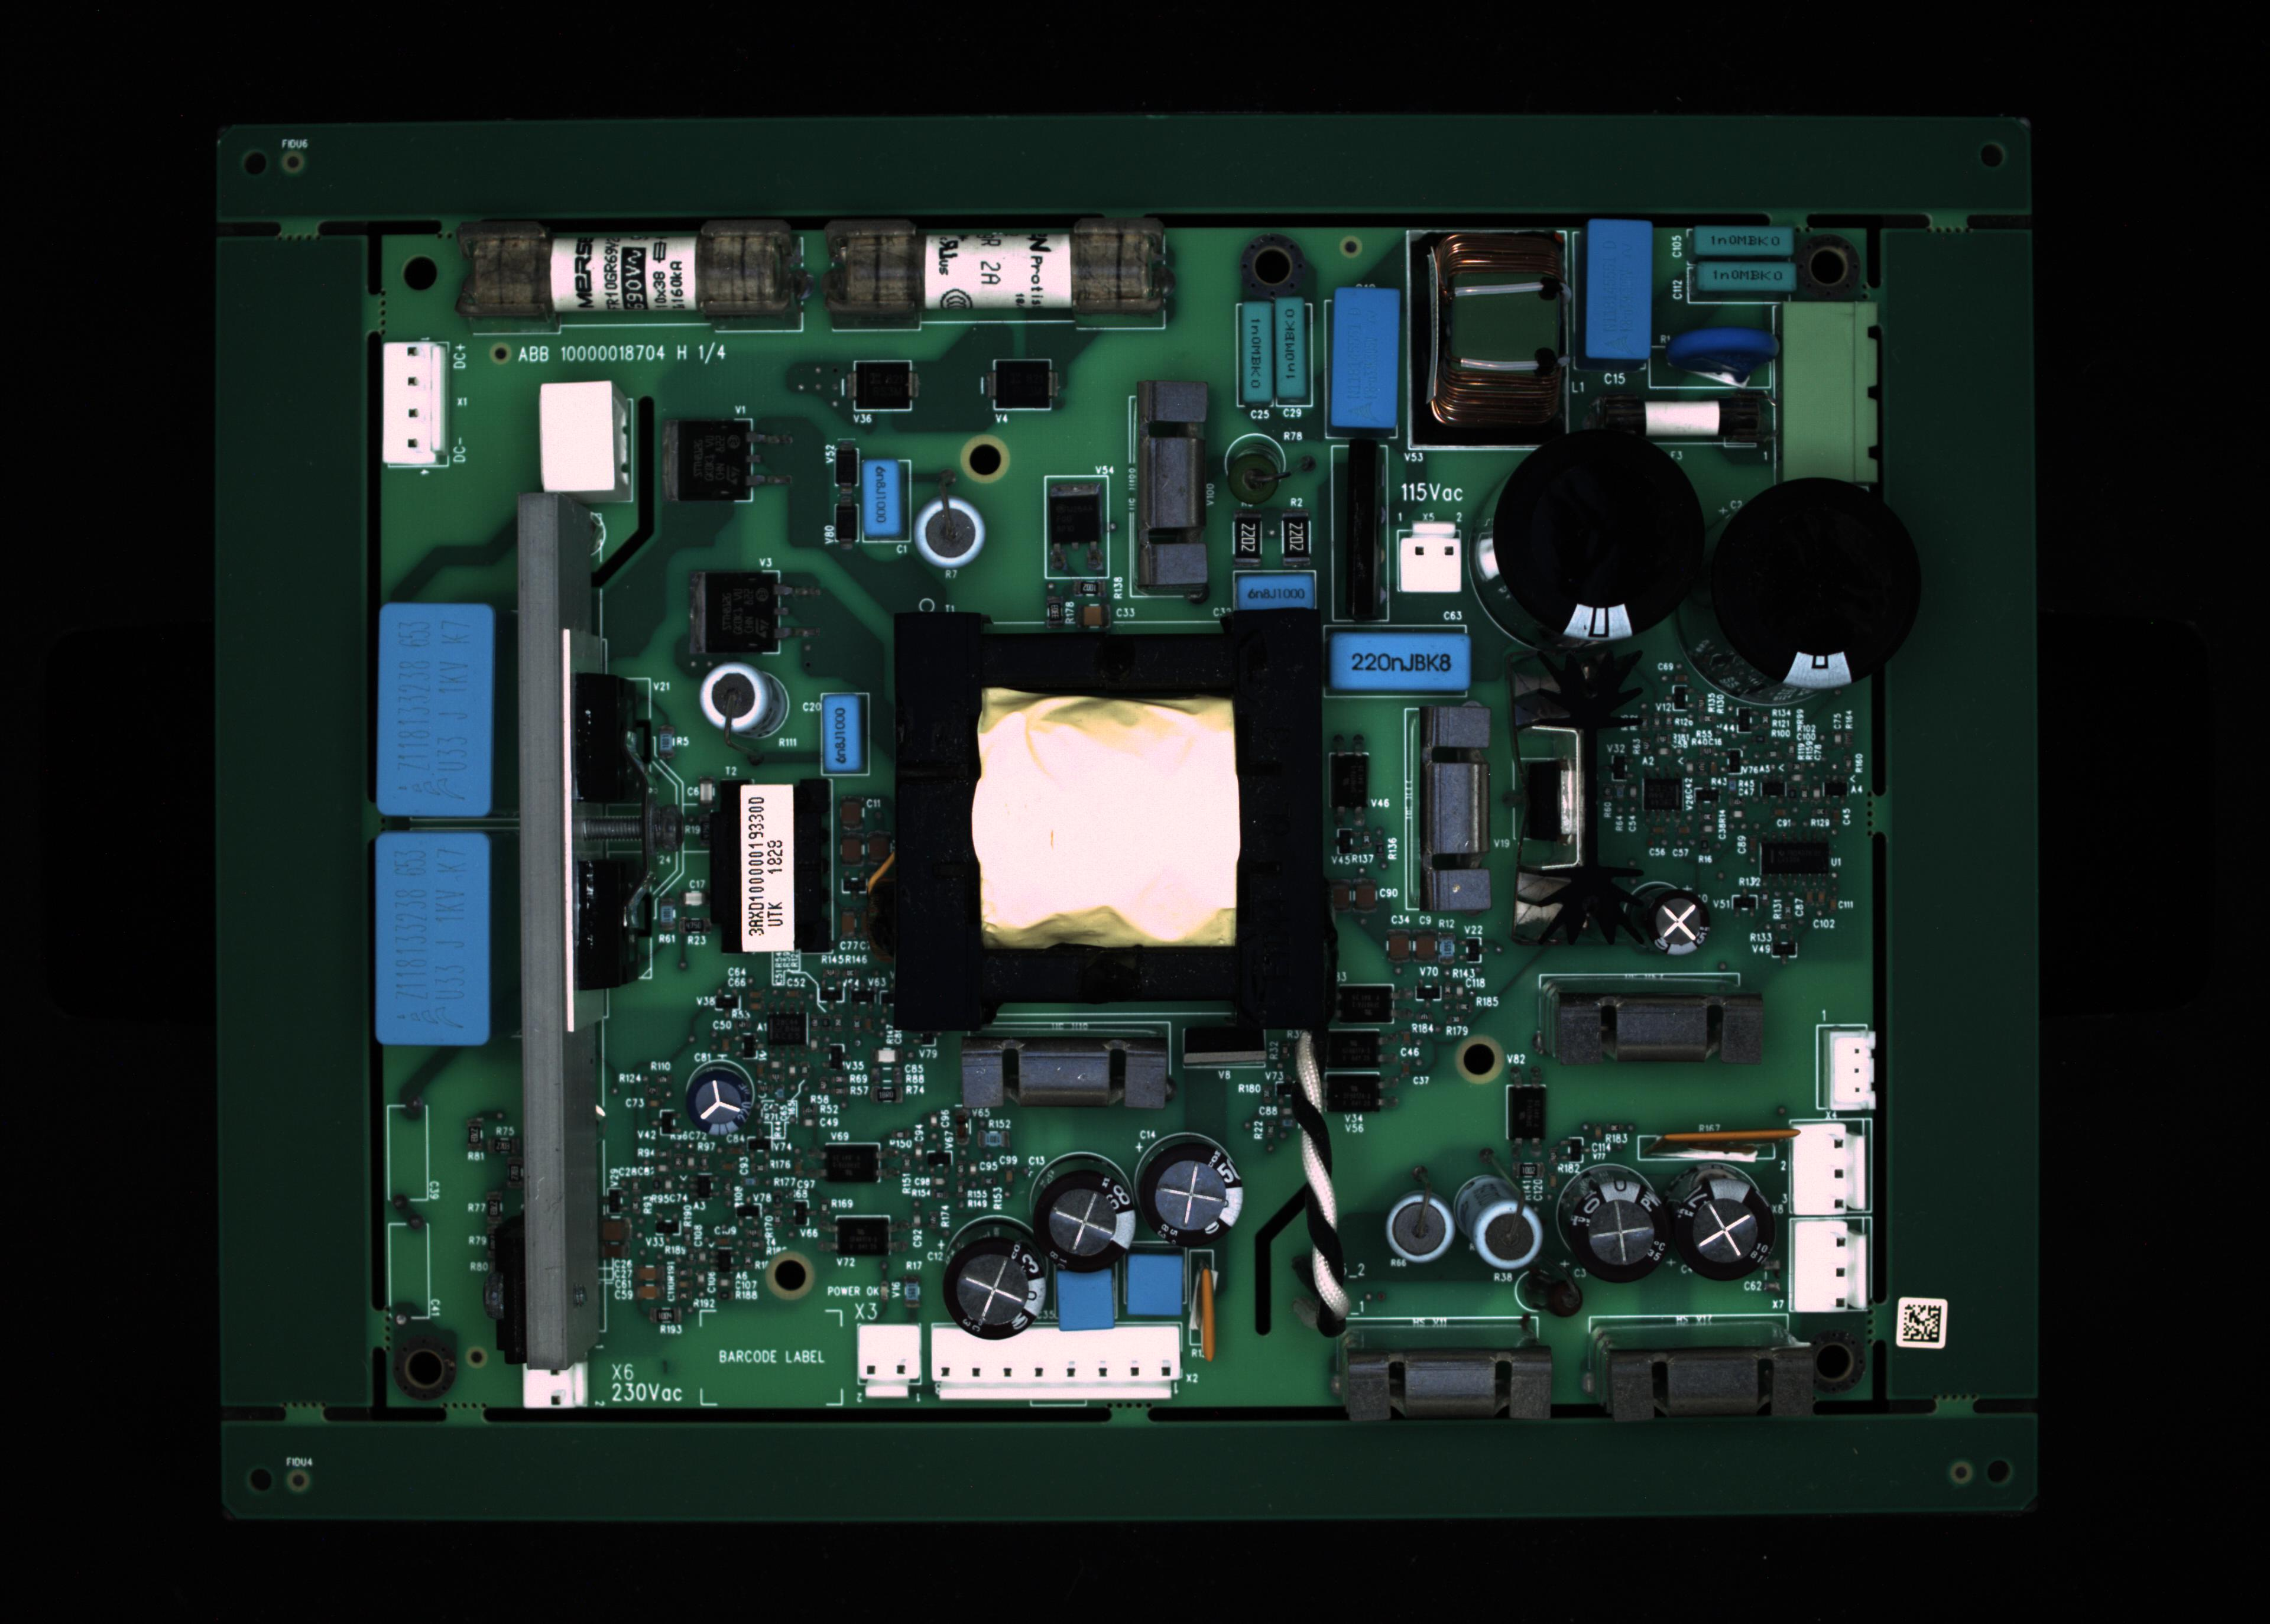10_p: (1656, 323, 1781, 369)
11_q: (1778, 301, 1876, 478)
12_r: (1586, 397, 1772, 436)
13_s: (383, 339, 447, 471)
14_t: (538, 385, 640, 496)
15_e: (863, 459, 904, 536)
16_k: (911, 497, 985, 569)
17_u: (1138, 385, 1206, 592)
18_v: (1240, 576, 1315, 608)
19_w: (1331, 631, 1472, 689)
1_a: (464, 221, 812, 318)
20_f: (1393, 517, 1470, 599)
21_g: (1488, 429, 1709, 643)
22_g: (1716, 478, 1920, 689)
23_h: (378, 603, 492, 823)
24_h: (376, 835, 489, 1042)
25_f: (522, 1362, 586, 1410)
26_f: (856, 1325, 921, 1401)
27_x: (934, 1329, 1183, 1401)
28_i: (1139, 1139, 1241, 1239)
29_i: (1034, 1169, 1134, 1274)
2_a: (828, 225, 1173, 316)
30_i: (941, 1237, 1048, 1339)
31_j: (1055, 1267, 1118, 1332)
32_j: (1120, 1251, 1189, 1322)
33_e: (814, 692, 869, 780)
34_k: (1373, 1181, 1465, 1281)
35_k: (1456, 1178, 1542, 1271)
36_i: (1567, 1178, 1672, 1280)
37_i: (1679, 1179, 1776, 1283)
38_l: (1343, 1348, 1560, 1424)
39_l: (1602, 1348, 1813, 1418)
3_b: (1241, 304, 1271, 401)
40_l: (1544, 993, 1769, 1069)
41_y: (1407, 678, 1505, 919)
42_z: (1827, 1028, 1876, 1114)
43_m: (1792, 1123, 1864, 1216)
44_m: (1792, 1225, 1867, 1309)
45_i: (684, 1067, 756, 1137)
46_n: (1338, 982, 1396, 1023)
47_n: (825, 1142, 881, 1183)
48_n: (835, 1216, 890, 1255)
49_aa: (767, 1012, 809, 1044)
4_b: (1277, 299, 1306, 397)
50_n: (1322, 1030, 1380, 1067)
51_n: (1319, 1072, 1377, 1111)
52_ab: (1328, 752, 1366, 812)
53_ac: (1644, 1130, 1778, 1164)
54_ad: (1194, 1253, 1222, 1364)
55_l: (960, 1035, 1173, 1109)
56_ae: (1176, 1025, 1266, 1070)
57_af: (1509, 647, 1635, 951)
58_i: (1646, 888, 1709, 954)
59_o: (993, 359, 1053, 410)
5_c: (1331, 286, 1400, 425)
60_o: (856, 360, 913, 411)
6_6: (1405, 232, 1572, 452)
7_c: (1586, 218, 1649, 359)
8_d: (1693, 223, 1792, 257)
9_d: (1697, 264, 1795, 292)
